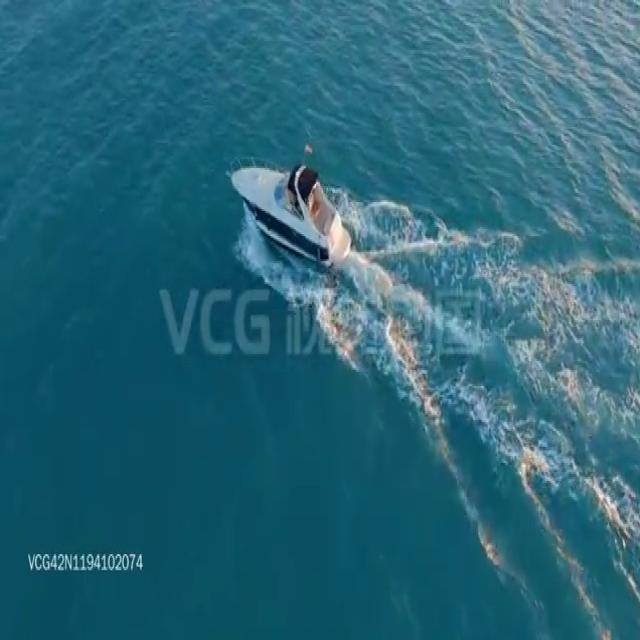houseboat: (228, 150, 352, 270)
